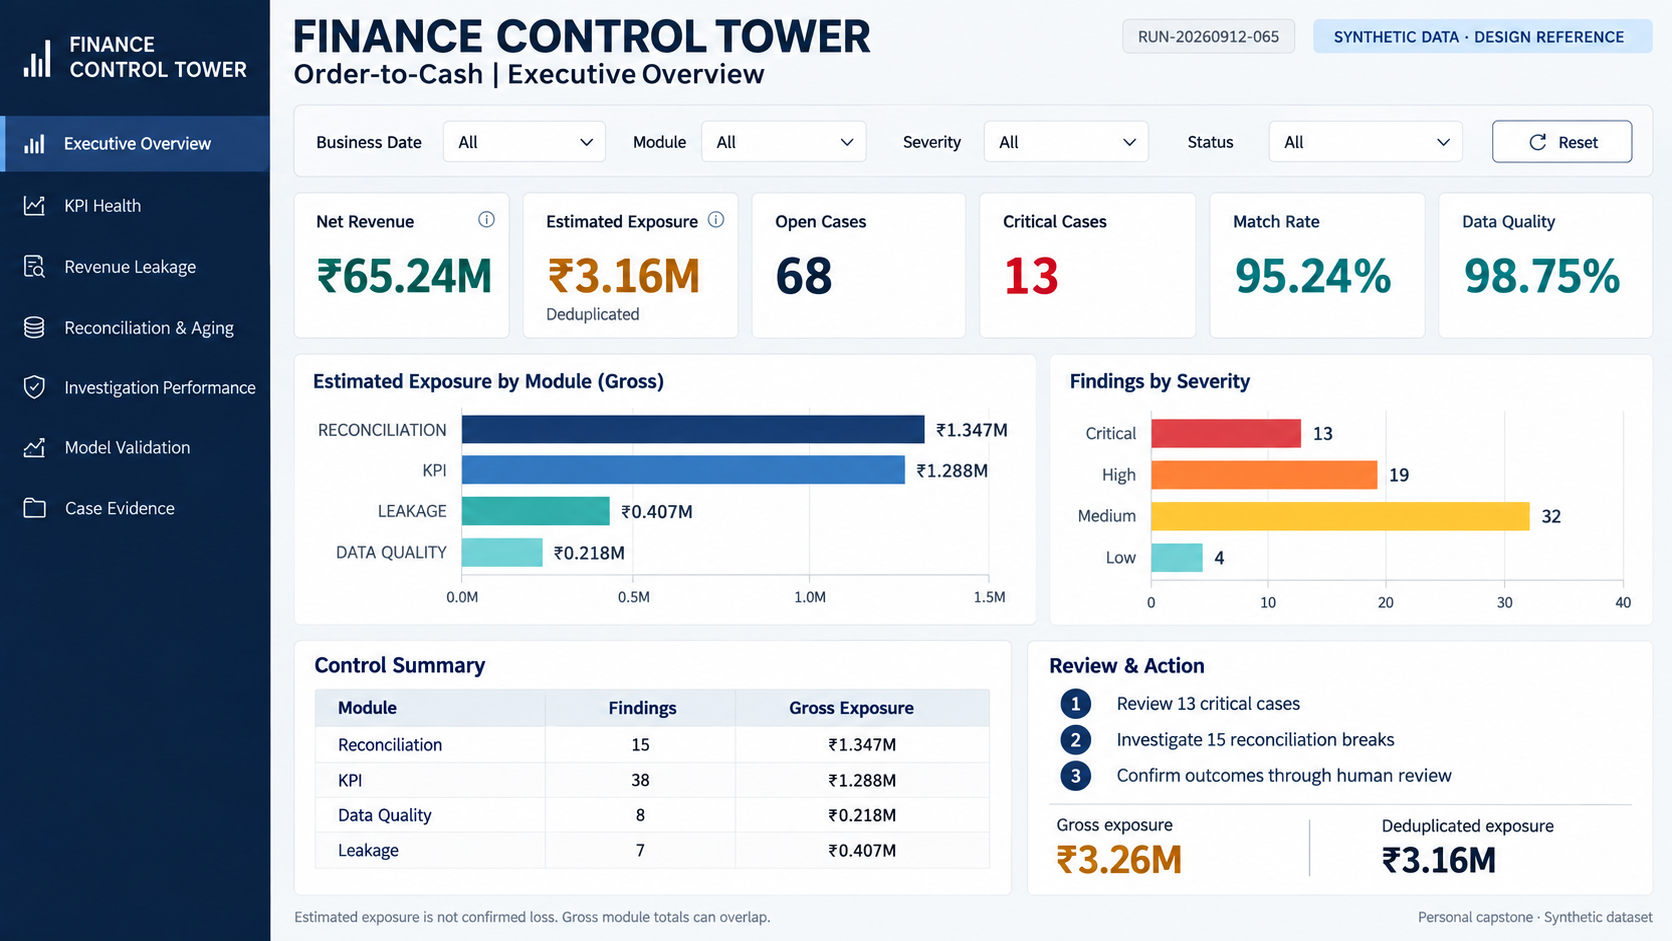

Layout of this report page (visuals, bound fields, positions):
{"tool":"powerbi","page":{"name":"Executive Overview","canvas":[1280,720],"ordinal":0},"visuals":[{"type":"textbox","box":[0,0,1280.4,61.7],"z":0},{"type":"textbox","box":[0,61.9,1280.2,39.5],"z":1000},{"type":"cardVisual","title":"Net Revenue","fields":{"Data":["rpt_fact_daily_kpis.Net Realized Revenue"]},"box":[0,101.4,267.5,119.4],"z":2000},{"type":"cardVisual","title":"Revenue at Risk","fields":{"Data":["rpt_fact_findings.Revenue at Risk"]},"box":[267.5,101.4,243.3,119.4],"z":3000},{"type":"cardVisual","title":"Open Cases","fields":{"Data":["rpt_fact_findings.Open Cases"]},"box":[510.8,101.4,207.4,119.4],"z":4000},{"type":"cardVisual","title":"Critical Cases","fields":{"Data":["rpt_fact_findings.Critical Cases"]},"box":[717.3,100.5,165.2,119.4],"z":5000},{"type":"cardVisual","title":"Match Rate","fields":{"Data":["rpt_fact_reconciliation.Reconciliation Match Rate %"]},"box":[882.5,101.4,194.8,119.4],"z":6000},{"type":"cardVisual","title":"Data Quality","fields":{"Data":["rpt_fact_findings.Data Quality Score %"]},"box":[1077.3,101.4,202.9,119.4],"z":7000},{"type":"clusteredBarChart","title":"Estimated Exposure by Module (Gross)","fields":{"Category":["rpt_fact_findings.source_module"],"Y":["rpt_fact_findings.Gross Exposure"]},"box":[0,220.8,640.5,268.1],"z":8000},{"type":"clusteredBarChart","title":"Findings by Severity","fields":{"Category":["rpt_dim_severity.severity"],"Y":["rpt_fact_findings.Total Cases"]},"box":[640.1,220.8,639.5,268.1],"z":9000},{"type":"tableEx","title":"Control Summary","fields":{"Values":["rpt_fact_findings.source_module","rpt_fact_findings.Total Cases","rpt_fact_findings.Gross Exposure"]},"box":[0,488.9,640.5,231.2],"z":10000},{"type":"textbox","box":[640.5,488.9,639.5,37.9],"z":11000},{"type":"textbox","box":[640.5,526.8,639.5,87.2],"z":12000},{"type":"cardVisual","title":"Gross Exposure","fields":{"Data":["rpt_fact_findings.Gross Exposure"]},"box":[640.5,613.9,233.1,106.1],"z":13000},{"type":"textbox","box":[874.5,613.9,405.5,106.1],"z":14000},{"type":"cardVisual","fields":{"Data":["rpt_fact_runs.Run Context"]},"box":[657.2,0,622.1,101.4],"z":15000}]}

Visuals, with their boxes on the page's 1280x720 design canvas (x1, y1, x2, y2). These are canvas units, not pixel positions in the 1672x941 screenshot, which may show the page scaled, cropped or inside an application window:
textbox: 0:0:1280:62
textbox: 0:62:1280:101
"Net Revenue" cardVisual: 0:101:268:221
"Revenue at Risk" cardVisual: 268:101:511:221
"Open Cases" cardVisual: 511:101:718:221
"Critical Cases" cardVisual: 717:100:882:220
"Match Rate" cardVisual: 882:101:1077:221
"Data Quality" cardVisual: 1077:101:1280:221
"Estimated Exposure by Module (Gross)" clusteredBarChart: 0:221:640:489
"Findings by Severity" clusteredBarChart: 640:221:1280:489
"Control Summary" tableEx: 0:489:640:720
textbox: 640:489:1280:527
textbox: 640:527:1280:614
"Gross Exposure" cardVisual: 640:614:874:720
textbox: 874:614:1280:720
cardVisual - rpt_fact_runs.Run Context: 657:0:1279:101
